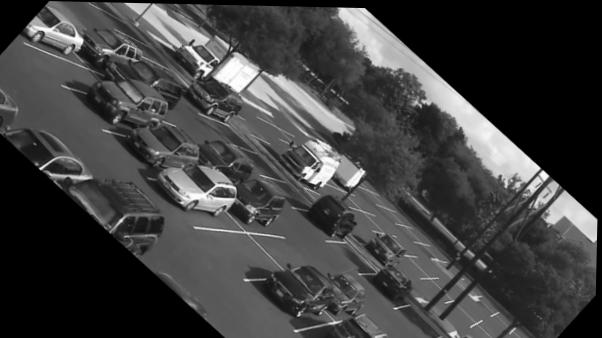empty: (195, 225, 283, 274), (25, 48, 100, 89), (393, 301, 445, 338), (202, 115, 251, 147), (241, 146, 285, 179), (266, 236, 318, 262), (329, 243, 374, 269), (101, 12, 141, 41), (132, 38, 169, 67), (262, 118, 301, 144), (272, 177, 308, 204), (444, 301, 480, 326), (418, 276, 454, 300), (167, 109, 201, 134), (434, 275, 466, 299), (350, 207, 382, 230), (328, 184, 361, 206), (490, 308, 519, 333), (457, 296, 487, 319), (478, 314, 506, 338), (375, 317, 406, 338), (414, 254, 444, 275), (404, 255, 431, 277), (350, 190, 379, 210), (92, 2, 122, 21), (371, 211, 398, 232), (395, 235, 424, 253), (476, 294, 502, 314), (363, 187, 390, 205), (419, 242, 450, 257), (470, 322, 496, 338), (353, 216, 371, 238), (398, 224, 426, 238), (381, 206, 407, 221), (512, 323, 534, 338), (410, 277, 426, 294)
occupied: (59, 182, 164, 260), (155, 162, 238, 220), (0, 132, 96, 181), (91, 77, 168, 131), (260, 263, 337, 315), (183, 69, 243, 124), (121, 125, 199, 167), (278, 138, 342, 187), (21, 6, 84, 55), (118, 58, 182, 105), (300, 193, 358, 241), (199, 138, 259, 183), (235, 178, 287, 227), (81, 29, 142, 67), (316, 312, 390, 338), (328, 273, 367, 315), (371, 264, 414, 300), (366, 230, 407, 266), (0, 85, 18, 126)
